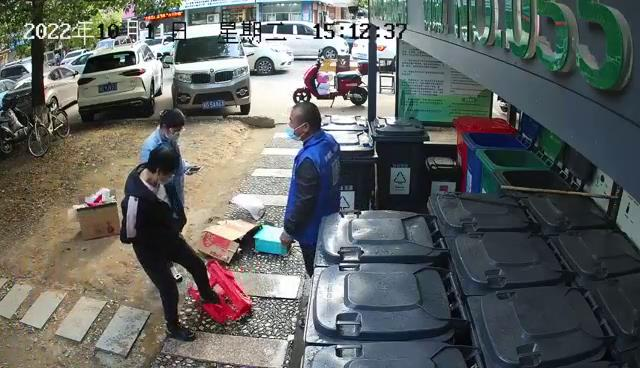person: (119, 142, 221, 343)
suliaozhipin: (184, 258, 253, 327), (228, 192, 267, 221)
worker: (279, 101, 343, 277), (140, 108, 201, 208)
zhizhipin: (196, 214, 257, 265), (68, 186, 121, 241), (253, 222, 292, 255)
